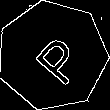P_NW: (21, 25, 84, 86)
